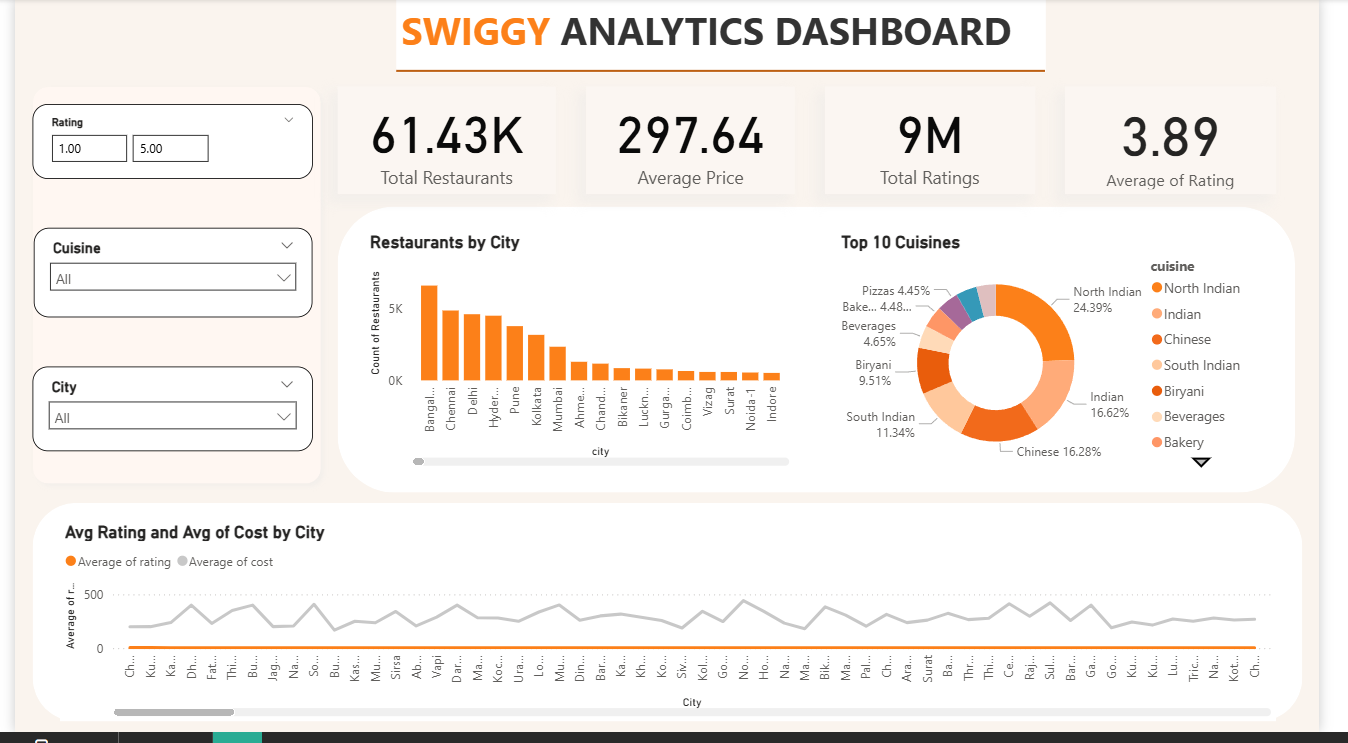

This screenshot's page, from the dashboard's own definition file:
{"tool":"powerbi","page":{"name":"Page 1","canvas":[1280,720],"ordinal":0},"visuals":[{"type":"shape","box":[8.6,77.3,300.6,407.4],"z":0},{"type":"shape","box":[17.2,494.5,1246.6,214.7],"z":1000},{"type":"shape","box":[316.6,203.7,939.9,281],"z":2000},{"type":"textbox","box":[374.6,0,637.3,71.6],"z":3000},{"type":"card","fields":{"Values":["CountNonNull(restaurants.id)"]},"box":[316.6,85.9,214.7,105.5],"z":4000},{"type":"card","fields":{"Values":["Avg(restaurants.cost)"]},"box":[560.7,85.9,204.9,105.5],"z":5000},{"type":"card","fields":{"Values":["Sum(restaurants.rating_count)"]},"box":[795.1,85.9,206.1,105.5],"z":6000},{"type":"card","title":"Average Rating","fields":{"Values":["Avg(restaurants.rating)"]},"box":[1030.7,85.9,207.4,105.5],"z":7000},{"type":"clusteredColumnChart","title":"Restaurants by City","fields":{"Category":["restaurants.city"],"Y":["CountNonNull(restaurants.Restaurants)"]},"box":[343.7,228.2,421.6,235.1],"z":8000},{"type":"donutChart","title":"Top 10 Cuisines ","fields":{"Category":["restaurants.cuisine"],"Y":["Count(restaurants.name)"]},"box":[805.6,228.2,410.4,239.3],"z":9000},{"type":"slicer","fields":{"Values":["restaurants.city"]},"box":[17.2,360.7,274.8,83.4],"z":10000},{"type":"lineChart","title":"Avg Rating and Avg of Cost by City","fields":{"Category":["restaurants.city"],"Y":["Avg(restaurants.rating)","Avg(restaurants.cost)"]},"box":[44.2,512.9,1193.9,196.3],"z":11000},{"type":"slicer","fields":{"Values":["restaurants.cuisine"]},"box":[18.4,224.5,273.6,88.3],"z":12000},{"type":"slicer","fields":{"Values":["restaurants.rating"]},"box":[17.2,103.1,274.8,73.6],"z":13000},{"type":"shape","box":[374.2,52.8,636.8,35.6],"z":14000}]}

Visuals, with their boxes on the page's 1280x720 design canvas (x1, y1, x2, y2). These are canvas units, not pixel positions in the 1348x743 screenshot, which may show the page scaled, cropped or inside an application window:
shape: (left=9, top=77, right=309, bottom=485)
shape: (left=17, top=494, right=1264, bottom=709)
shape: (left=317, top=204, right=1256, bottom=485)
textbox: (left=375, top=0, right=1012, bottom=72)
card - CountNonNull(restaurants.id): (left=317, top=86, right=531, bottom=191)
card - Avg(restaurants.cost): (left=561, top=86, right=766, bottom=191)
card - Sum(restaurants.rating_count): (left=795, top=86, right=1001, bottom=191)
"Average Rating" card: (left=1031, top=86, right=1238, bottom=191)
"Restaurants by City" clusteredColumnChart: (left=344, top=228, right=765, bottom=463)
"Top 10 Cuisines " donutChart: (left=806, top=228, right=1216, bottom=468)
slicer - restaurants.city: (left=17, top=361, right=292, bottom=444)
"Avg Rating and Avg of Cost by City" lineChart: (left=44, top=513, right=1238, bottom=709)
slicer - restaurants.cuisine: (left=18, top=224, right=292, bottom=313)
slicer - restaurants.rating: (left=17, top=103, right=292, bottom=177)
shape: (left=374, top=53, right=1011, bottom=88)
